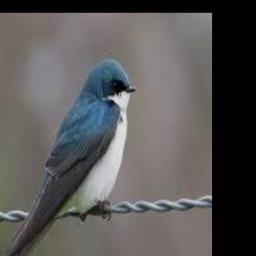Swallow: (0, 59, 138, 256)
